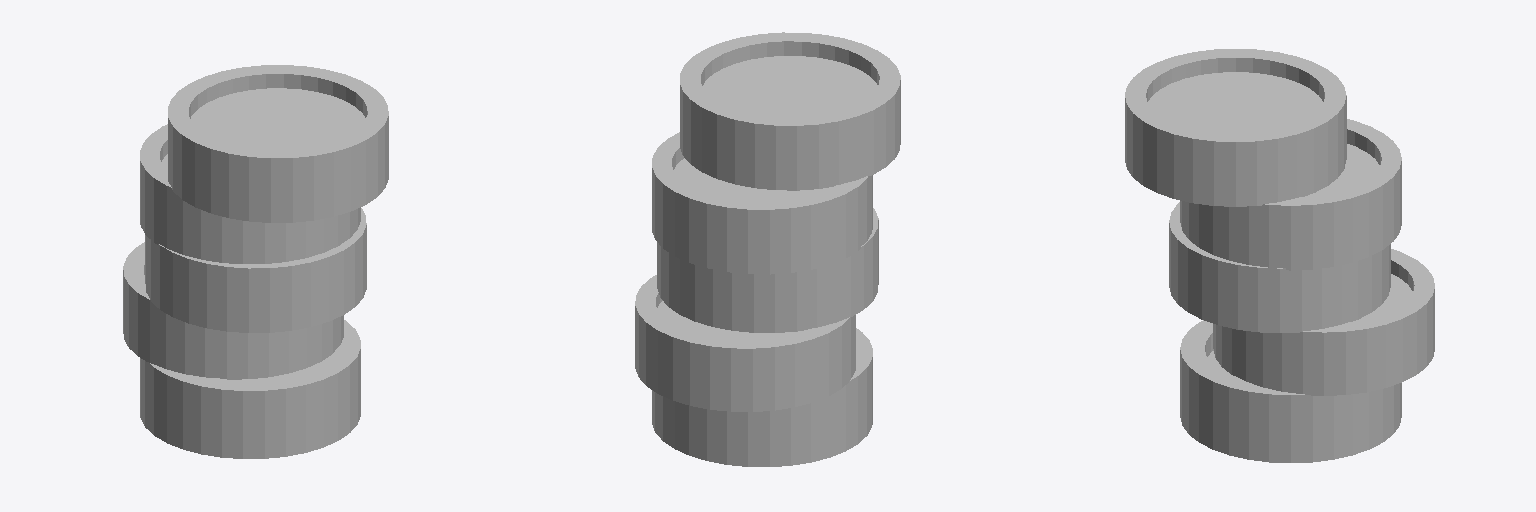
File: Checkers_Topping.obj
The picture shows the model from 3 angles: view 1: azimuth 30°, elevation 25°; view 2: azimuth 150°, elevation 25°; view 3: azimuth 270°, elevation 25°; orthographic projection.
Visible parts, largest first — view 1: Checkers; view 2: Checkers; view 3: Checkers.
Part boxes in pixels (x1,y1,x2,y2): Checkers: (123,65,388,458); Checkers: (635,32,900,466); Checkers: (1125,49,1434,462).
Bounding box in the file's own units: 2 × 3.2 × 2.8.